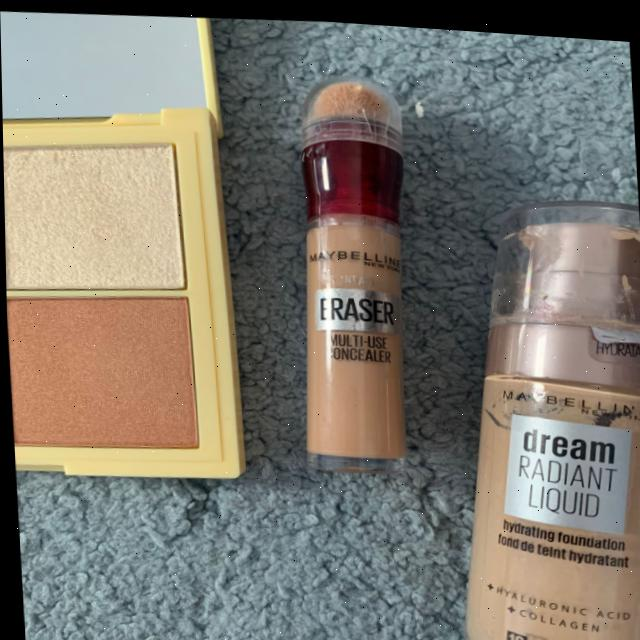bronzer: (5, 275, 206, 468)
concealer: (270, 46, 447, 488)
foundation: (430, 165, 640, 640)
highlighter: (2, 120, 204, 298)
